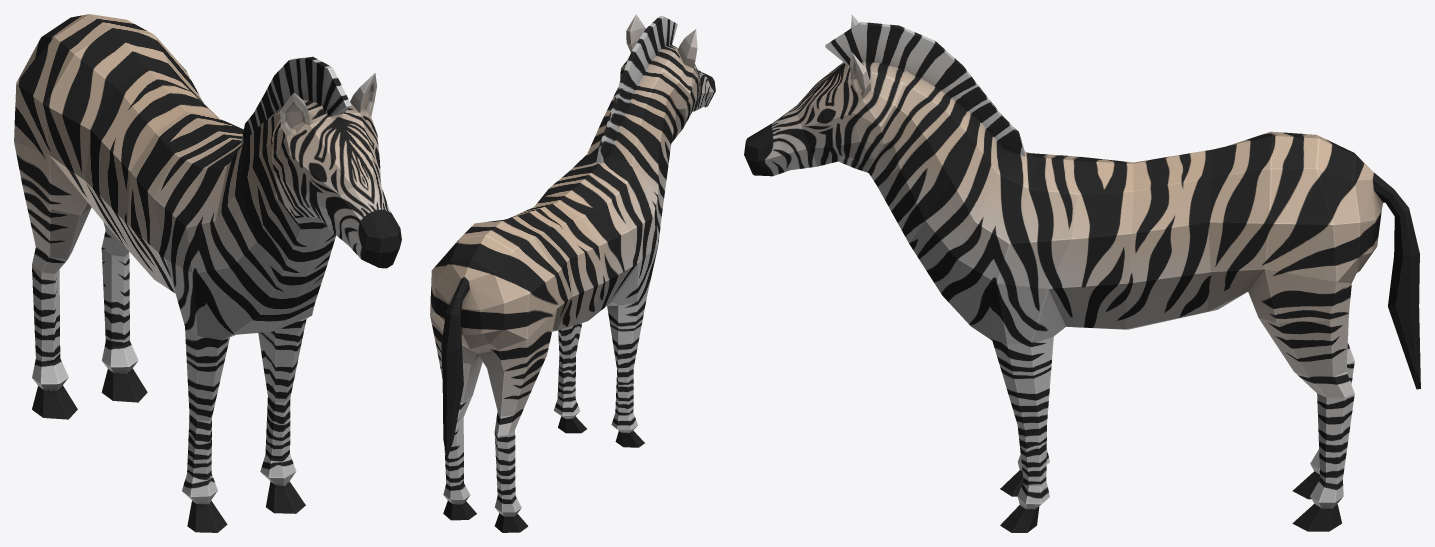
Rendered from zebra.obj.
3 renders of one model, left to right at view 1: azimuth 30°, elevation 25°; view 2: azimuth 150°, elevation 25°; view 3: azimuth 270°, elevation 25°, orthographic. The views are drawn at different scales.
Parts seen in each view (by area): view 1: Zebra_mesh; view 2: Zebra_mesh; view 3: Zebra_mesh.
Part boxes in pixels (bbox=[...]): Zebra_mesh: bbox=[14, 14, 401, 532]; Zebra_mesh: bbox=[430, 14, 715, 532]; Zebra_mesh: bbox=[744, 14, 1420, 532].
Size of the model in its own units: 3.49 by 12 by 15.2.
Materials: 1 (1 with a texture image).
